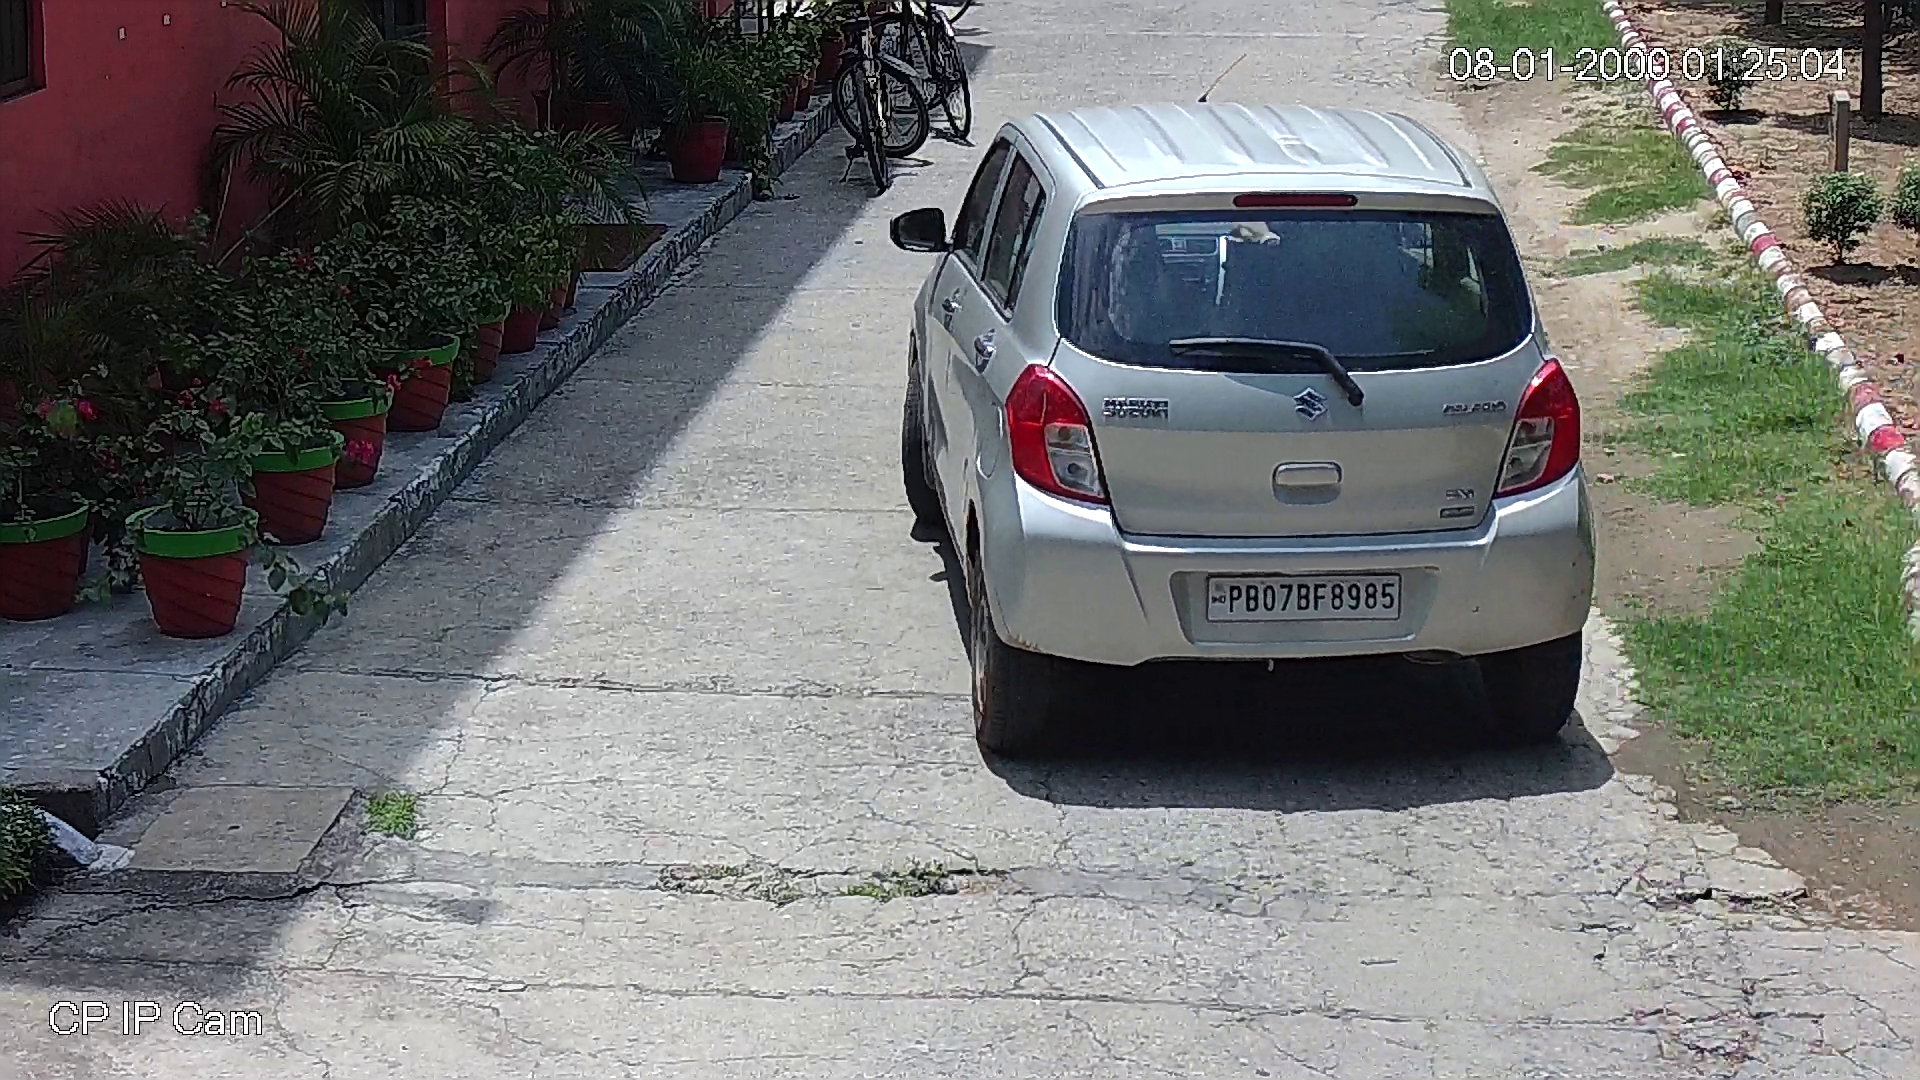plate: (1216, 571, 1401, 626)
